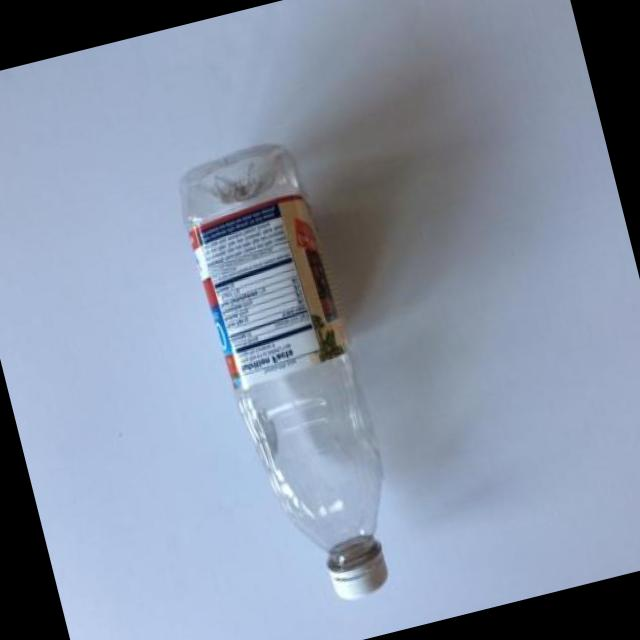plastic_bottle: (170, 133, 418, 619)
